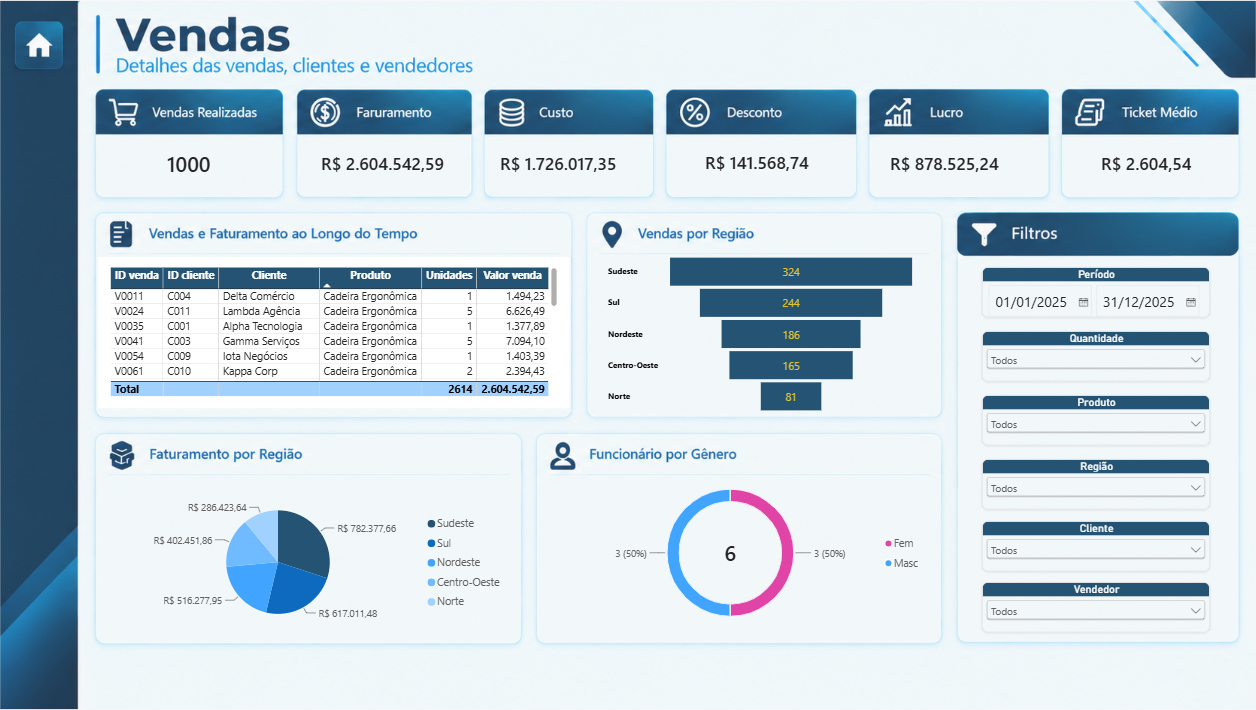

The page's visual inventory and layout, read from the dashboard file:
{"tool":"powerbi","page":{"name":"Vendas","canvas":[1920,1080],"ordinal":1},"visuals":[{"type":"tableEx","fields":{"Values":["Venda.ID_Venda","Venda.Codigo_Cliente","Venda.Cliente","Venda.Produto","Sum(Venda.Quantidade)","Sum(Venda.Valor_Venda)"]},"box":[255.5,407.3,627.3,200.9],"z":0},{"type":"donutChart","fields":{"Category":["Vendedores.Gênero"],"Y":["CountNonNull(Vendedores.Gênero)"]},"box":[876.5,675.7,494.8,251.4],"z":1000},{"type":"cardVisual","fields":{"Data":["Medidas.Qtd.vendas"]},"box":[331.4,250,100,64.3],"z":7000},{"type":"cardVisual","fields":{"Data":["Medidas.Faturamento"]},"box":[535.7,250,204,64],"z":8000},{"type":"cardVisual","fields":{"Data":["Medidas.Total Custo"]},"box":[774.3,250,204,64],"z":9000},{"type":"cardVisual","fields":{"Data":["Medidas.Desconto total"]},"box":[1047.1,248.6,174.3,64.3],"z":10000},{"type":"cardVisual","fields":{"Data":["Medidas.Lucro"]},"box":[1292.9,250,207.1,64.3],"z":11000},{"type":"cardVisual","fields":{"Data":["Medidas.Ticket Médio"]},"box":[1572.9,250,161.4,64.3],"z":12000},{"type":"funnel","fields":{"Category":["Venda.Regiao"],"Y":["Medidas.Qtd.vendas"]},"box":[917.1,390,441.4,241.4],"z":16000},{"type":"pieChart","fields":{"Category":["Venda.Regiao"],"Y":["Medidas.Faturamento"]},"box":[280,710,534.3,207.1],"z":17002},{"type":"slicer","title":"Período","fields":{"Values":["Venda.Data"]},"box":[1431.4,420,302.9,67.1],"z":17003},{"type":"slicer","title":"Quantidade","fields":{"Values":["Venda.Quantidade"]},"box":[1431.4,505.7,302.9,67.1],"z":17004},{"type":"slicer","title":"Produto","fields":{"Values":["Venda.Produto"]},"box":[1431.7,590.8,302.9,67.1],"z":17005},{"type":"slicer","title":"Região","fields":{"Values":["Venda.Regiao"]},"box":[1431.7,675.8,302.9,67.1],"z":17006},{"type":"slicer","title":"Cliente","fields":{"Values":["Venda.Regiao"]},"box":[1431.7,758.3,302.9,67.1],"z":17007},{"type":"slicer","title":"Vendedor","fields":{"Values":["Vendedores.Vendedor"]},"box":[1431.7,839.2,302.9,67.1],"z":17008}]}

Visuals, with their boxes in screenshot pixels (x1, y1, x2, y2), scaled from the page's 1920x1080 canvas onto the 1256x710 screenshot:
tableEx - Venda.ID_Venda x Venda.Codigo_Cliente: 167,268,577,400
donutChart - Vendedores.Gênero x CountNonNull(Vendedores.Gênero): 573,444,897,609
cardVisual - Medidas.Qtd.vendas: 217,164,282,207
cardVisual - Medidas.Faturamento: 350,164,484,206
cardVisual - Medidas.Total Custo: 507,164,640,206
cardVisual - Medidas.Desconto total: 685,163,799,206
cardVisual - Medidas.Lucro: 846,164,981,207
cardVisual - Medidas.Ticket Médio: 1029,164,1135,207
funnel - Venda.Regiao x Medidas.Qtd.vendas: 600,256,889,415
pieChart - Venda.Regiao x Medidas.Faturamento: 183,467,533,603
"Período" slicer: 936,276,1135,320
"Quantidade" slicer: 936,332,1135,377
"Produto" slicer: 937,388,1135,433
"Região" slicer: 937,444,1135,488
"Cliente" slicer: 937,499,1135,543
"Vendedor" slicer: 937,552,1135,596
